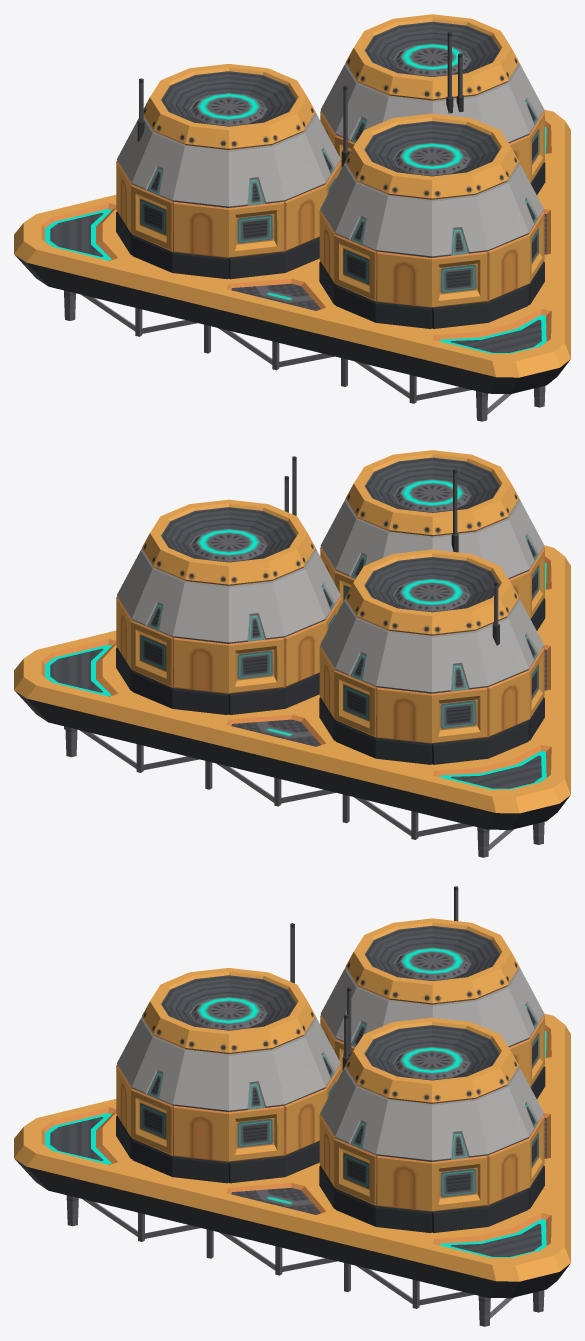
The model's file is worlds_SM_Bld_Pod_Silo_02.gltf.
3 views of the same model, one above another, from view 1: azimuth 30°, elevation 25°; view 2: azimuth 150°, elevation 25°; view 3: azimuth 270°, elevation 25° (orthographic).
Parts seen in each view (by area): view 1: SM_Bld_Pod_Silo_02; view 2: SM_Bld_Pod_Silo_02; view 3: SM_Bld_Pod_Silo_02.
Boxes of the visible parts, left/top/right/bottom form: SM_Bld_Pod_Silo_02: left=14, top=14, right=570, bottom=421; SM_Bld_Pod_Silo_02: left=14, top=450, right=570, bottom=857; SM_Bld_Pod_Silo_02: left=14, top=886, right=570, bottom=1326.
Bounding box in the file's own units: 25.42 × 11.59 × 22.46.
1 material, 1 textured.
